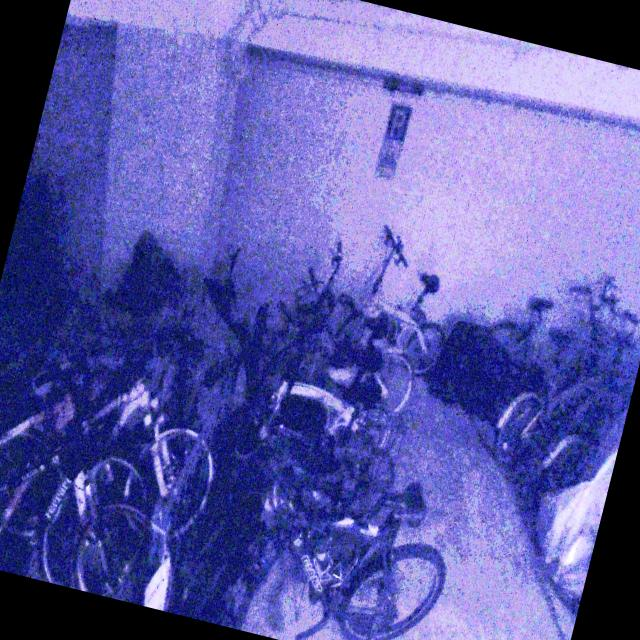bike: (0, 314, 241, 576), (200, 438, 466, 640), (0, 334, 178, 601), (488, 278, 640, 487), (270, 234, 442, 414), (472, 262, 620, 420), (323, 220, 468, 380)
